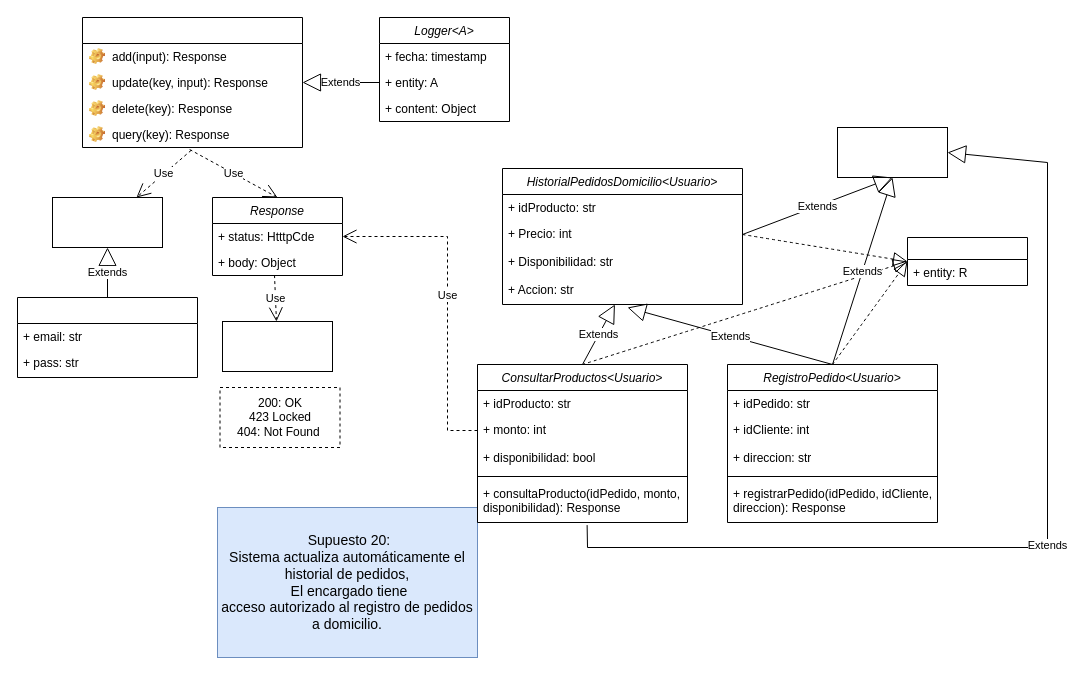
Some shapes in this 1085 by 675 pixel diagram are drawn without their labels. Here are the shapes that lost their labels. From the top down, the box of each, then its label:
(82, 16, 302, 148): ICRUD<E>
(836, 126, 948, 178): «interface» ICRUD
(52, 196, 162, 248): «interface» input
(906, 236, 1028, 286): ICRUDA<R>
(16, 296, 198, 378): Usuarioinput
(222, 320, 332, 372): HttpCode
